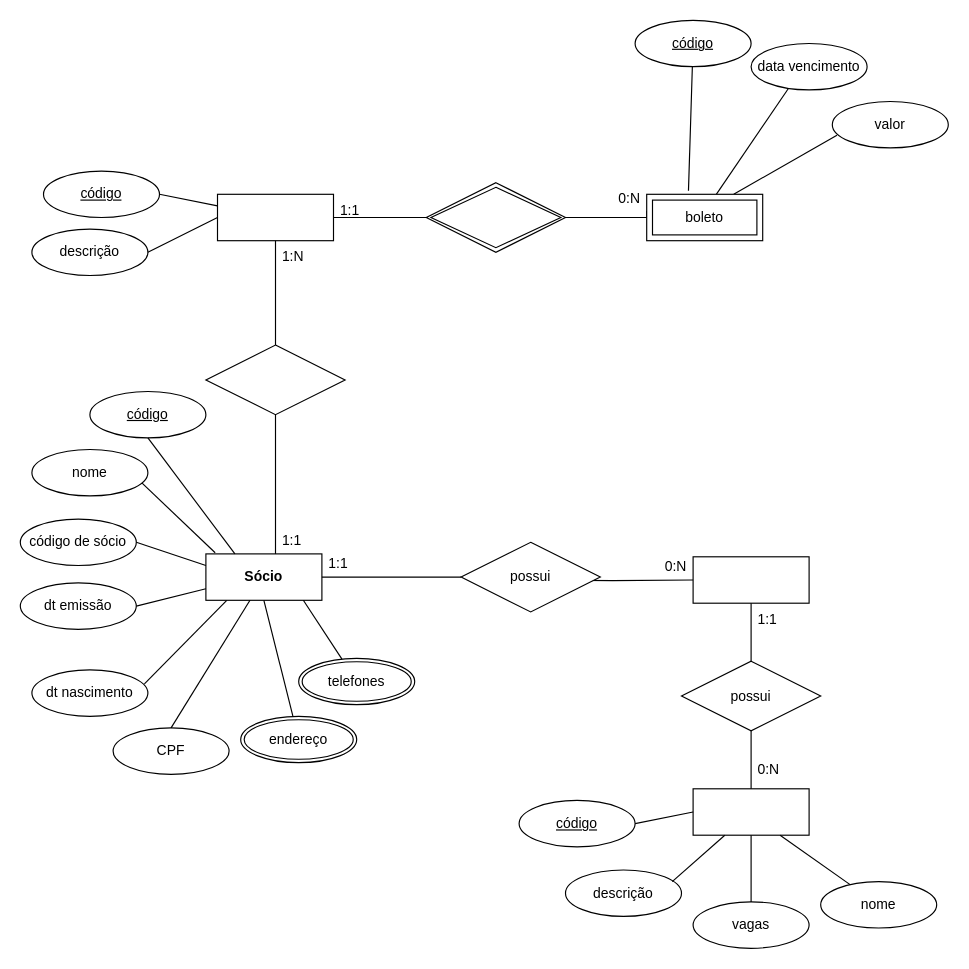
Some shapes in this 969 by 969 pixel diagram are drawn without their labels. Each missing label, with the box of its shape:
agendamento: (692, 556, 809, 603)
atividade: (692, 788, 809, 835)
gera: (425, 182, 566, 252)
mensalidade: (216, 193, 334, 241)
paga: (205, 344, 345, 415)
